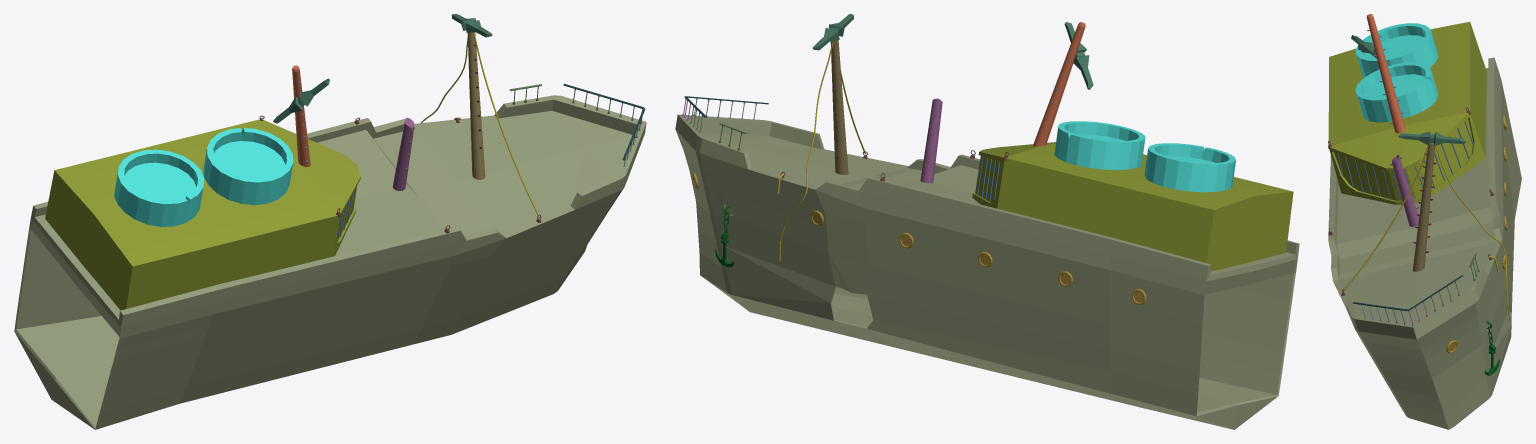
File: bateau.fbx
3 renders of one model, left to right at view 1: azimuth 30°, elevation 25°; view 2: azimuth 150°, elevation 25°; view 3: azimuth 270°, elevation 25°, orthographic. The views are drawn at different scales.
Visible parts, largest first — view 1: Cales1, Commande, Cheminée, Mas3, MasHaut2, Mas4, Mas2, Cable1; view 2: Cales1, Commande, Cheminée, Mas3, Mas4, MasHaut2, Mas2, Ublos3, Cable1; view 3: Cales1, Commande, Cheminée, Mas3, Mas4, MasHaut2, Mas2, Cable1, BarCommande1, Ublos3, Encres, GrandeBar2.
Boxes of the visible parts, <box> form: Cales1: <box>14,95,646,429</box>; Commande: <box>45,119,360,310</box>; Cheminée: <box>114,128,293,226</box>; Mas3: <box>467,32,485,179</box>; MasHaut2: <box>273,14,492,123</box>; Mas4: <box>292,65,310,166</box>; Mas2: <box>392,118,414,190</box>; Cable1: <box>421,32,539,217</box>; Cales1: <box>675,114,1299,429</box>; Commande: <box>972,142,1293,271</box>; Cheminée: <box>1054,121,1235,192</box>; Mas3: <box>830,40,848,174</box>; Mas4: <box>1033,22,1085,146</box>; MasHaut2: <box>812,14,1093,89</box>; Mas2: <box>920,98,942,183</box>; Ublos3: <box>692,173,1146,304</box>; Cable1: <box>777,41,865,261</box>; Cales1: <box>1328,57,1521,429</box>; Commande: <box>1328,21,1486,204</box>; Cheminée: <box>1355,23,1438,122</box>; Mas3: <box>1412,142,1434,271</box>; Mas4: <box>1366,14,1405,133</box>; MasHaut2: <box>1351,35,1465,145</box>; Mas2: <box>1392,154,1418,226</box>; Cable1: <box>1343,145,1510,320</box>; BarCommande1: <box>1337,121,1473,200</box>; Ublos3: <box>1446,115,1507,353</box>; Encres: <box>1484,322,1499,375</box>; GrandeBar2: <box>1353,275,1463,310</box>.
Size of the model in its own units: 30.19 by 16.11 by 9.81.
